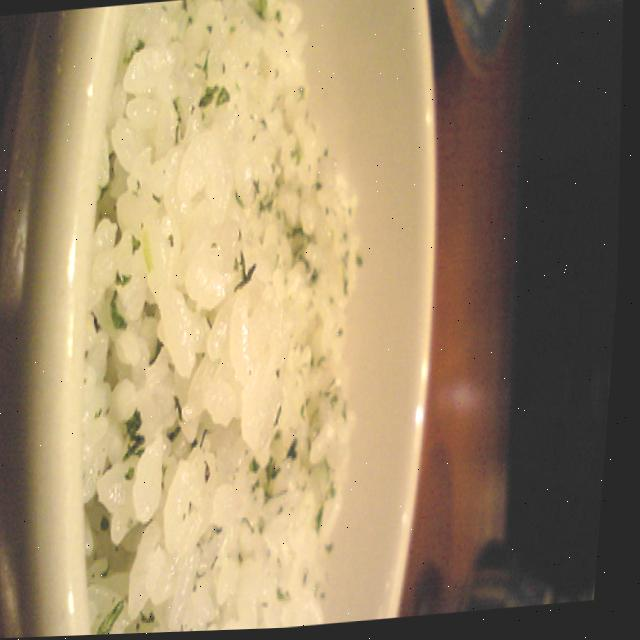米饭主食: (0, 0, 468, 639)
